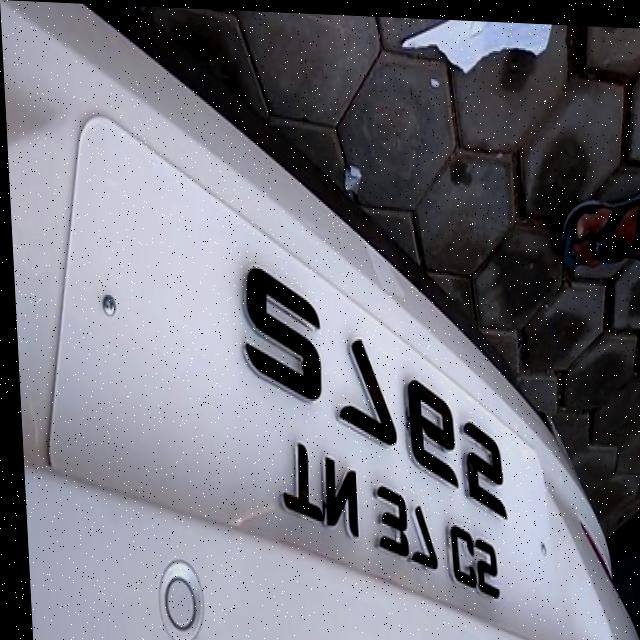plate: (23, 99, 556, 640)
